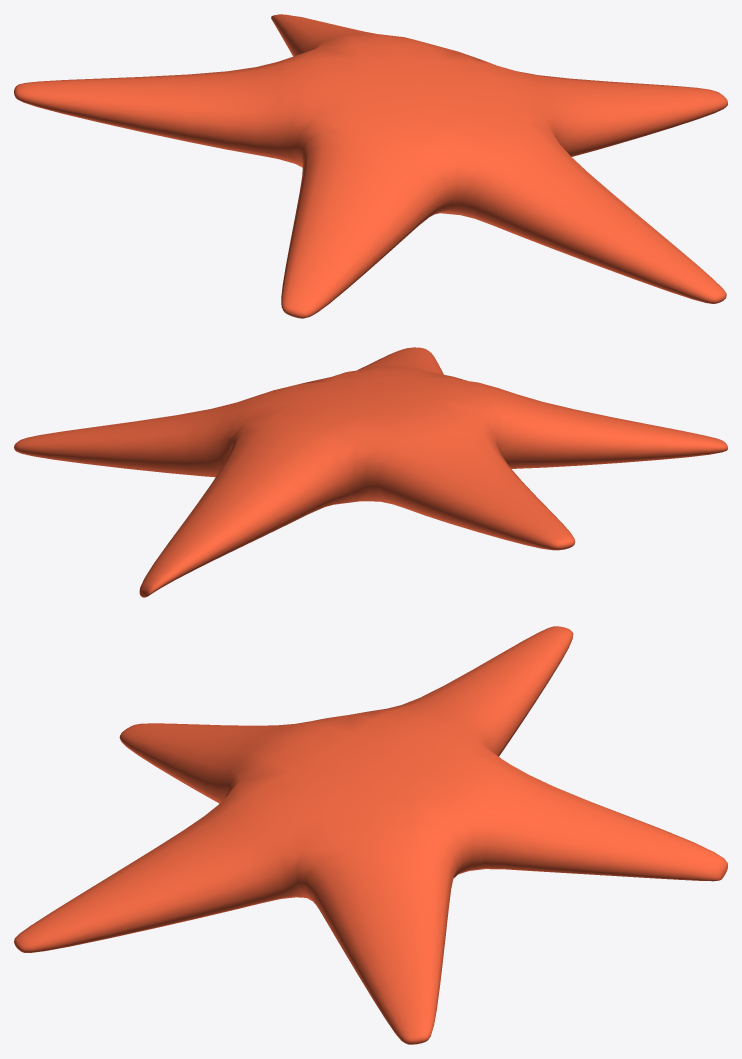
Rendered from giantMantaRayStarfish_edit_for_FBX.fbx.
3 views of the same model, one above another, from view 1: azimuth 30°, elevation 25°; view 2: azimuth 150°, elevation 25°; view 3: azimuth 270°, elevation 25° (orthographic).
Parts seen in each view (by area): view 1: StarFish; view 2: StarFish; view 3: StarFish.
Boxes of the visible parts, x1=… form: StarFish: x1=14, y1=14, x2=727, y2=318; StarFish: x1=14, y1=347, x2=727, y2=597; StarFish: x1=14, y1=626, x2=727, y2=1044.
Bounding box in the file's own units: 180 × 35.72 × 176.
